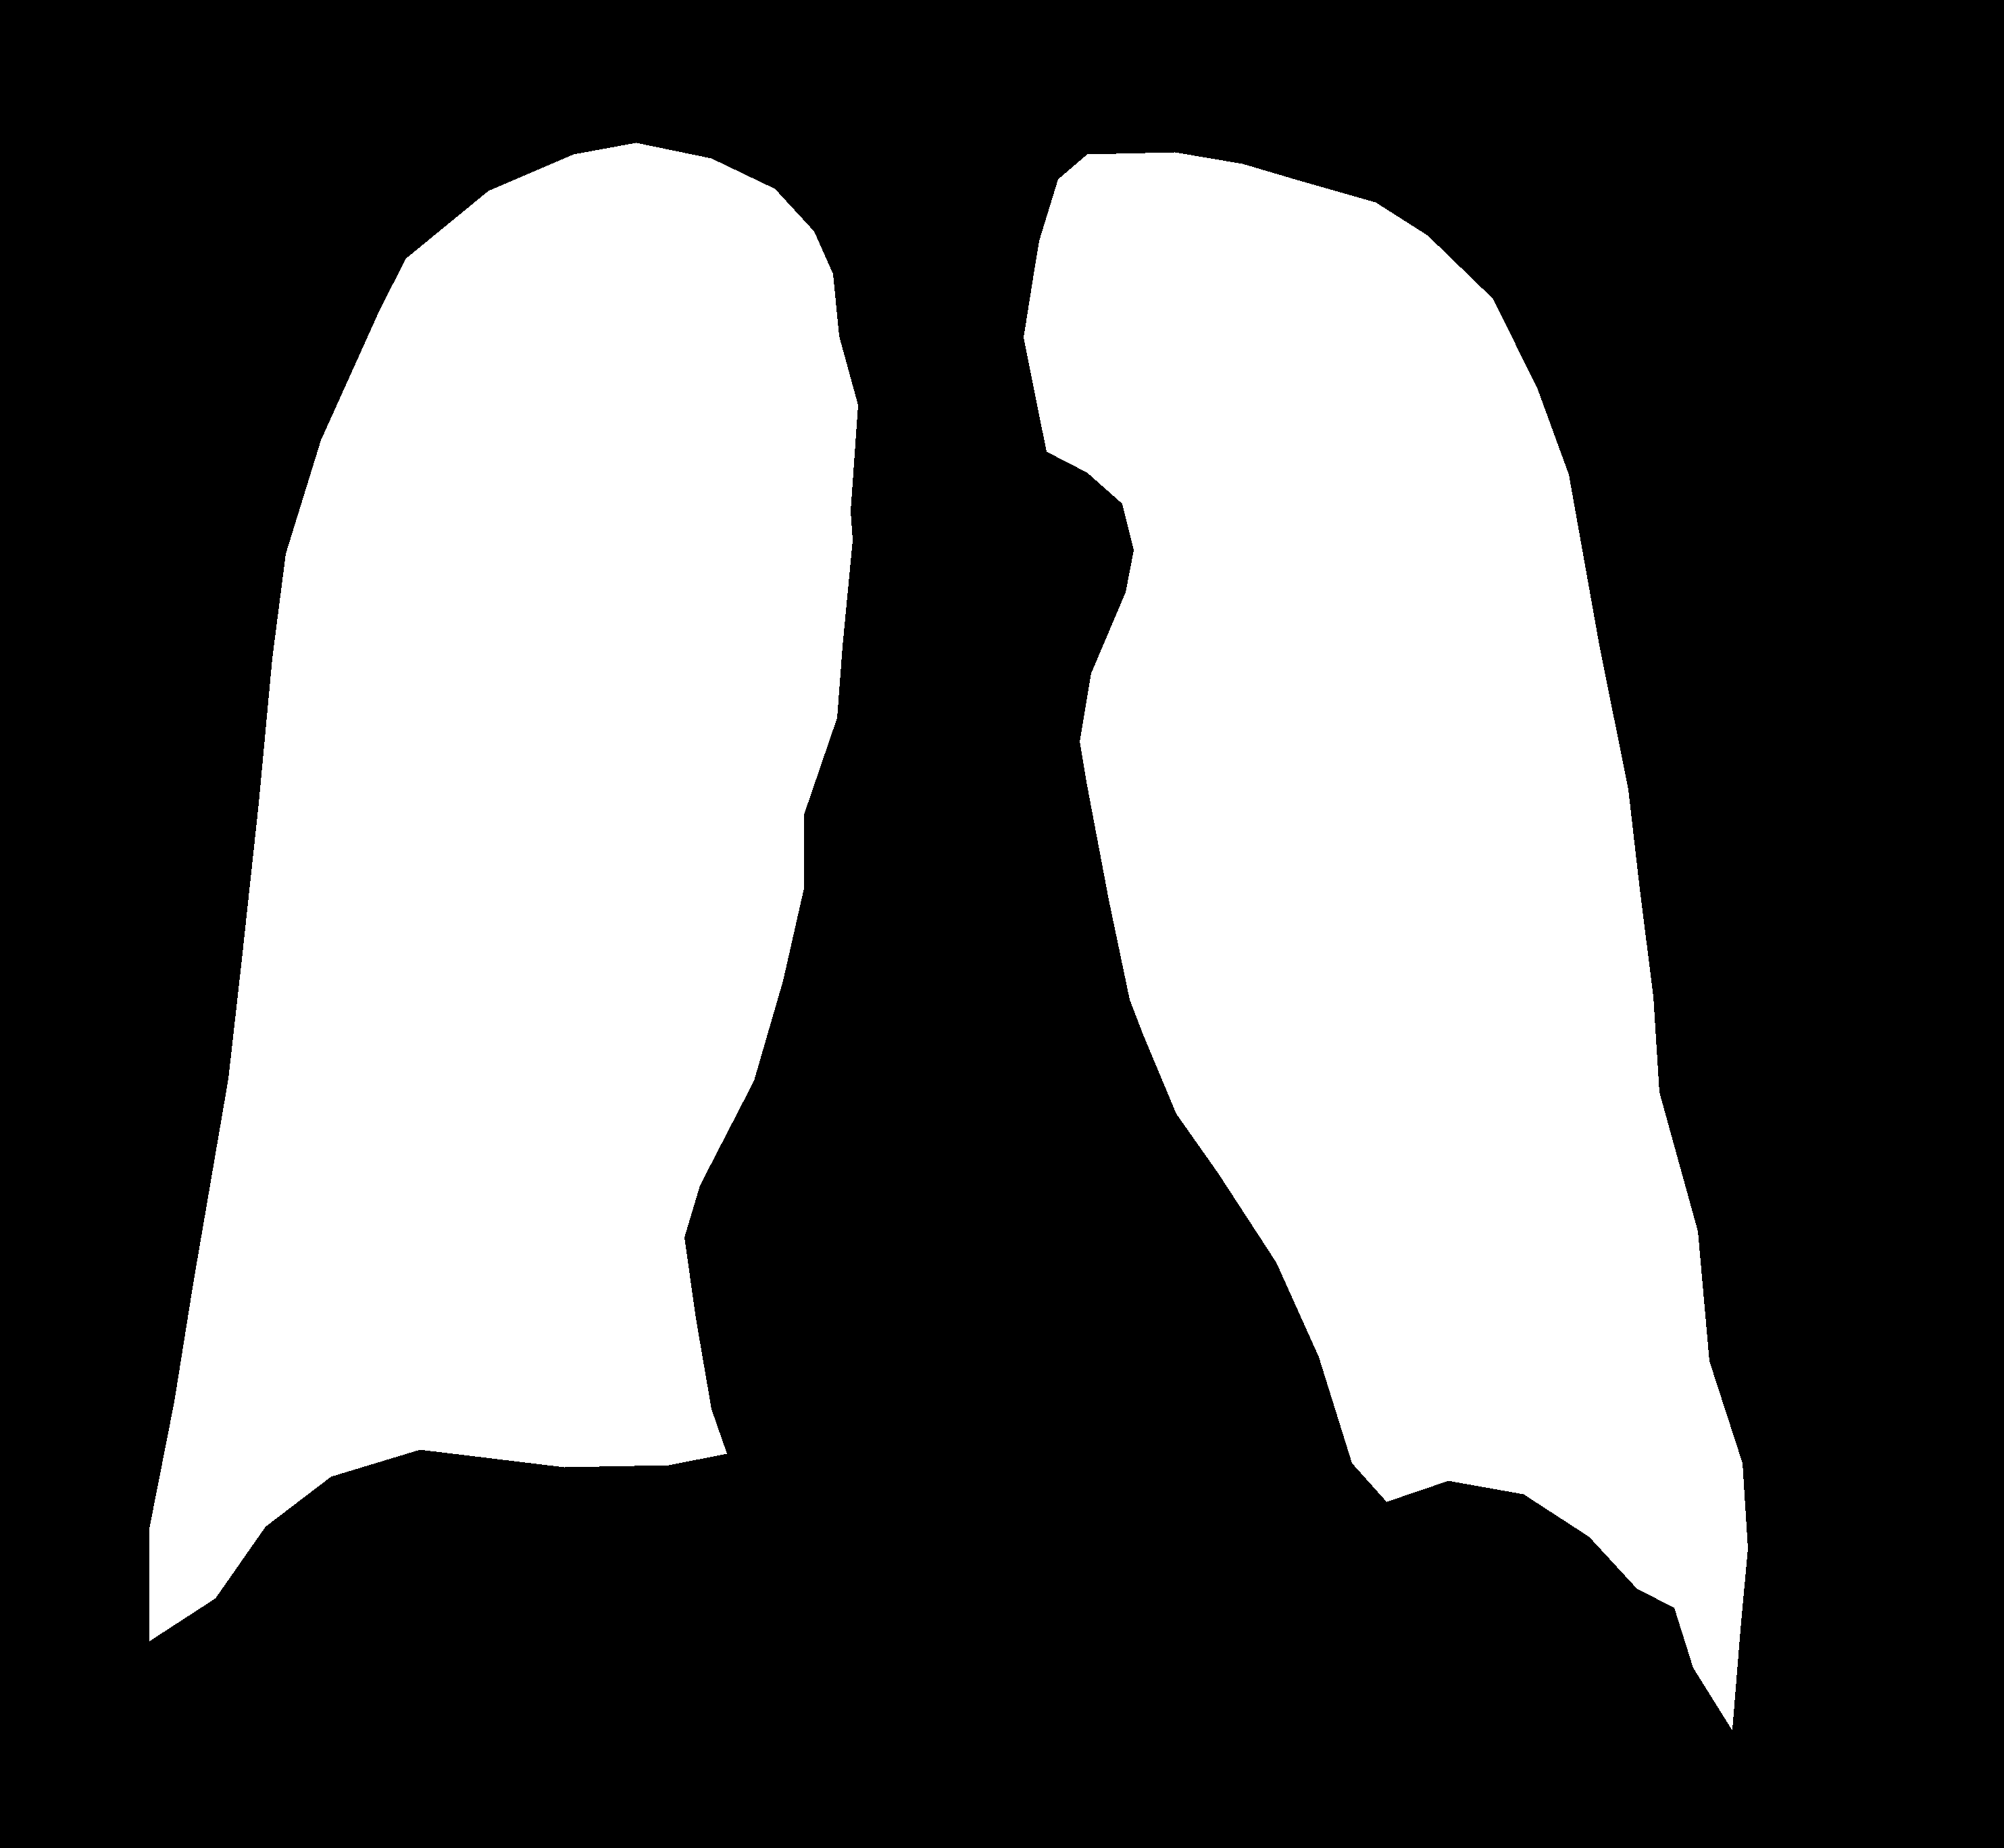heart: (690, 825, 1353, 1546)
left_lung: (150, 143, 857, 1640)
right_lung: (1023, 152, 1747, 1729)
